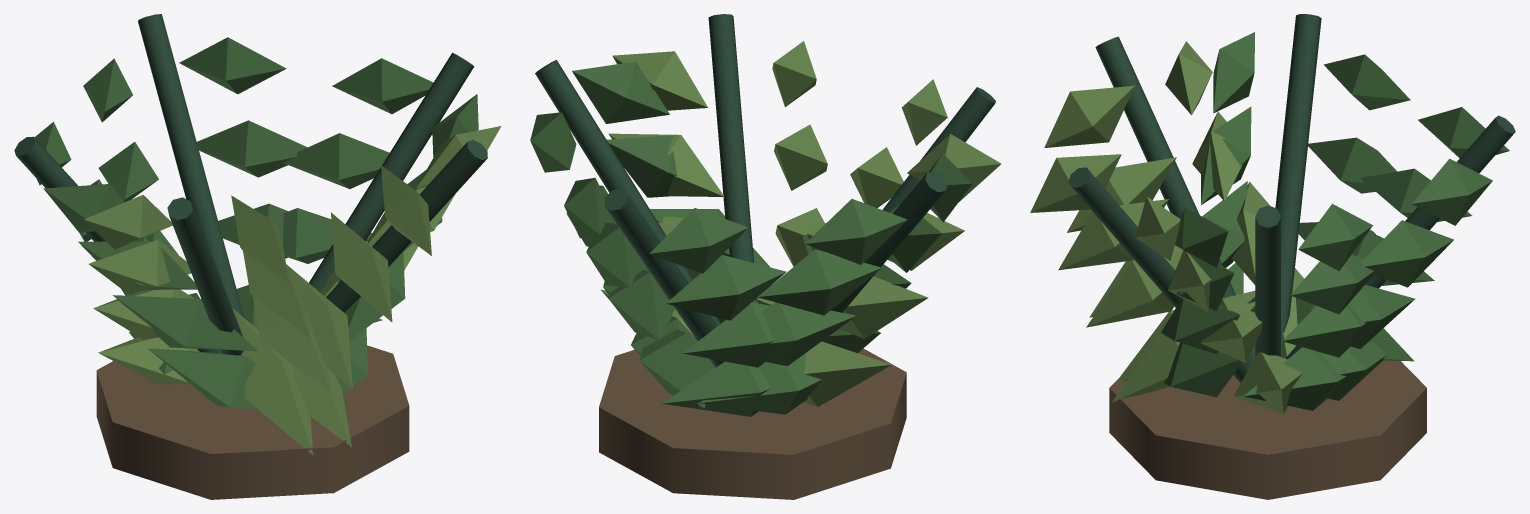
The model's file is plant-fern-2.glb.
3 views of the same model, side by side, from view 1: azimuth 30°, elevation 25°; view 2: azimuth 150°, elevation 25°; view 3: azimuth 270°, elevation 25° (orthographic).
Visible parts, largest first — view 1: plant-fern-2-visual; view 2: plant-fern-2-visual; view 3: plant-fern-2-visual.
Part boxes in pixels (<box>): plant-fern-2-visual: <box>14,14,501,499</box>; plant-fern-2-visual: <box>530,14,1001,499</box>; plant-fern-2-visual: <box>1030,14,1515,499</box>.
Size of the model in its own units: 0.4972 by 0.3599 by 0.4892.
